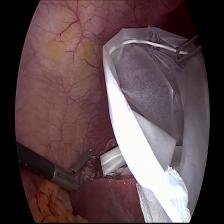Grasper: (55, 146, 97, 194), (173, 27, 204, 67)
Specimen Bag: (102, 0, 207, 224)
